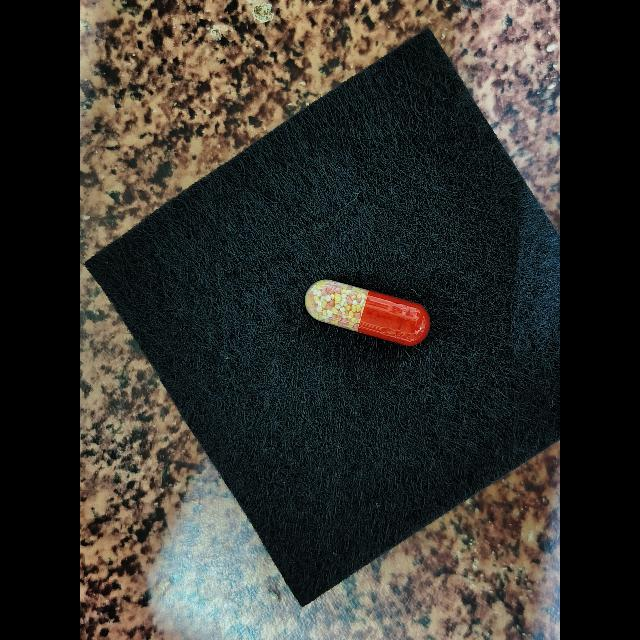Intact Capsule: (305, 280, 430, 346)
